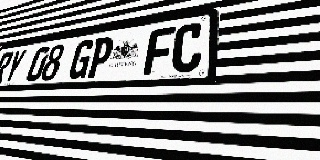0: (24, 46, 52, 82)
8: (39, 43, 67, 81)
C: (170, 22, 204, 73)
F: (143, 26, 176, 75)
G: (66, 39, 96, 79)
P: (85, 36, 116, 78)
R: (0, 51, 15, 84)
Y: (1, 49, 27, 83)
